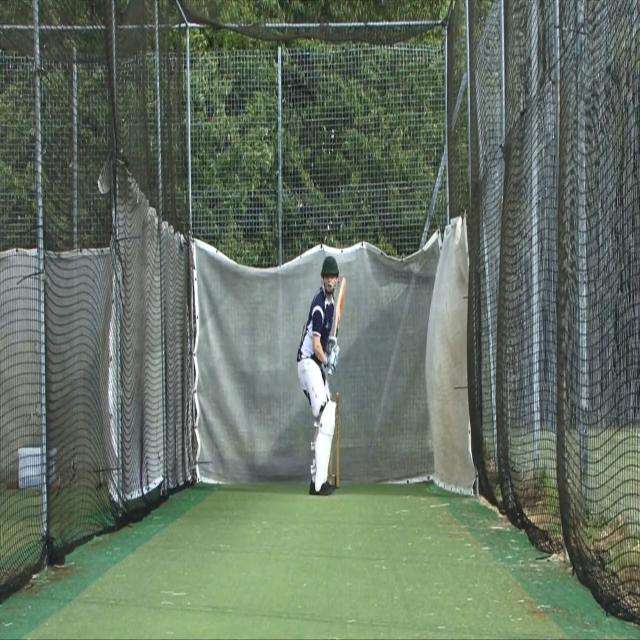batsman: (296, 253, 348, 498)
